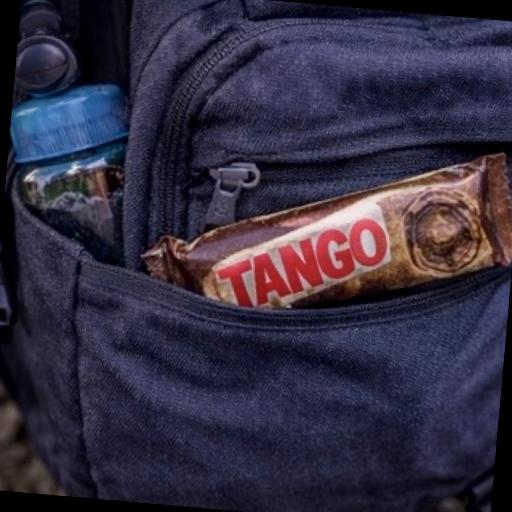tango: (112, 118, 512, 360)
